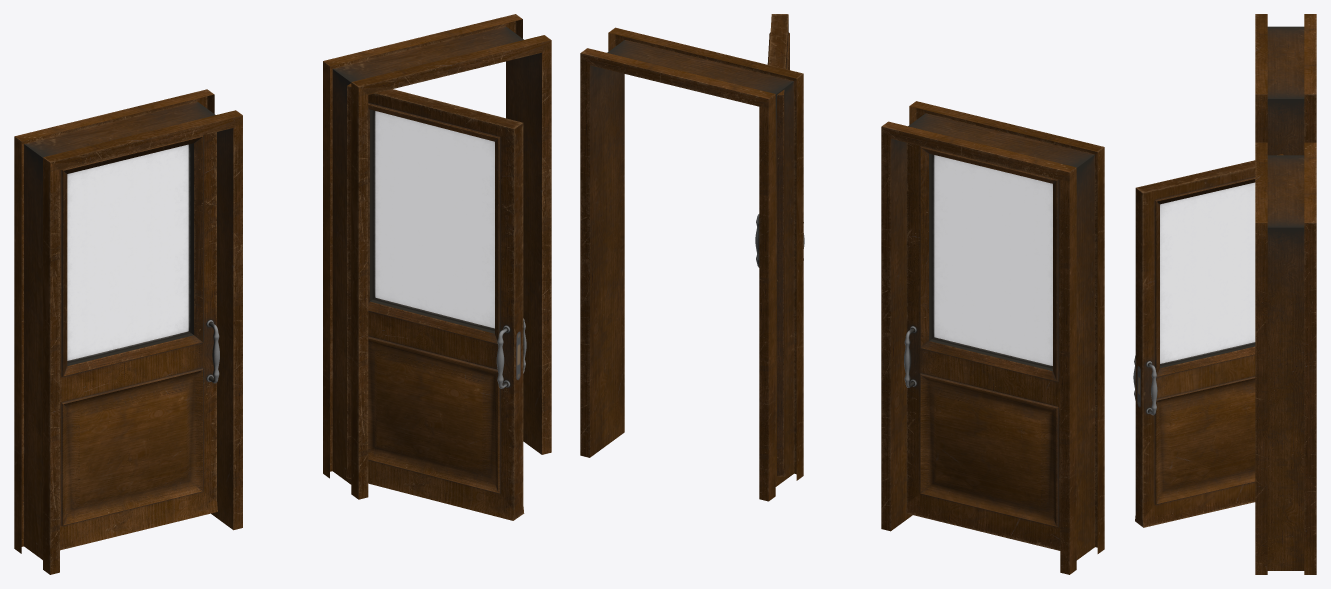
Rendered from door_wooden_-_5mb.glb.
The picture shows the model from 3 angles, left to right: view 1: azimuth 30°, elevation 25°; view 2: azimuth 150°, elevation 25°; view 3: azimuth 270°, elevation 25°; orthographic projection. The views are drawn at different scales.
Visible parts, largest first — view 1: Door00_50m_0_1_2, Main_11m_0_1_2, Main_11m_0_1, Door00_50m_0_1, glass, glass_2; view 2: Main_11m_0_1_2, Main_11m_0_1, Door00_50m_0_1, glass, Door00_50m_0_1_2; view 3: Main_11m_0_1_2, Door00_50m_0_1_2, glass_2, Main_11m_0_1, Sweep_2.
Part boxes in pixels (bbox=[...]): Door00_50m_0_1_2: bbox=[346, 83, 524, 520]; Main_11m_0_1_2: bbox=[323, 14, 551, 499]; Main_11m_0_1: bbox=[14, 89, 242, 574]; Door00_50m_0_1: bbox=[60, 132, 217, 550]; glass: bbox=[67, 144, 190, 363]; glass_2: bbox=[373, 110, 494, 330]; Main_11m_0_1_2: bbox=[580, 27, 803, 501]; Main_11m_0_1: bbox=[881, 101, 1104, 574]; Door00_50m_0_1: bbox=[906, 143, 1060, 550]; glass: bbox=[932, 154, 1052, 368]; Door00_50m_0_1_2: bbox=[767, 14, 789, 476]; Main_11m_0_1_2: bbox=[1255, 142, 1316, 574]; Door00_50m_0_1_2: bbox=[1135, 154, 1283, 527]; glass_2: bbox=[1160, 183, 1254, 365]; Main_11m_0_1: bbox=[1255, 14, 1316, 155]; Sweep_2: bbox=[1133, 355, 1157, 415].
Bounding box in the file's own units: 29.1 × 22.87 × 10.78.
2 materials, 2 textured.
